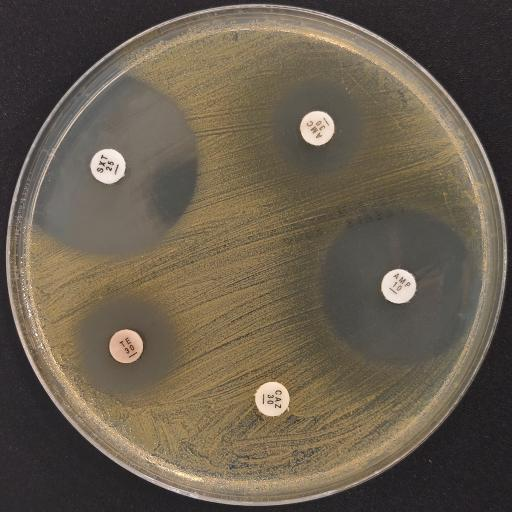disc: (90, 149, 126, 184), (255, 382, 290, 416), (300, 111, 334, 145), (109, 329, 143, 363), (382, 269, 416, 303)
